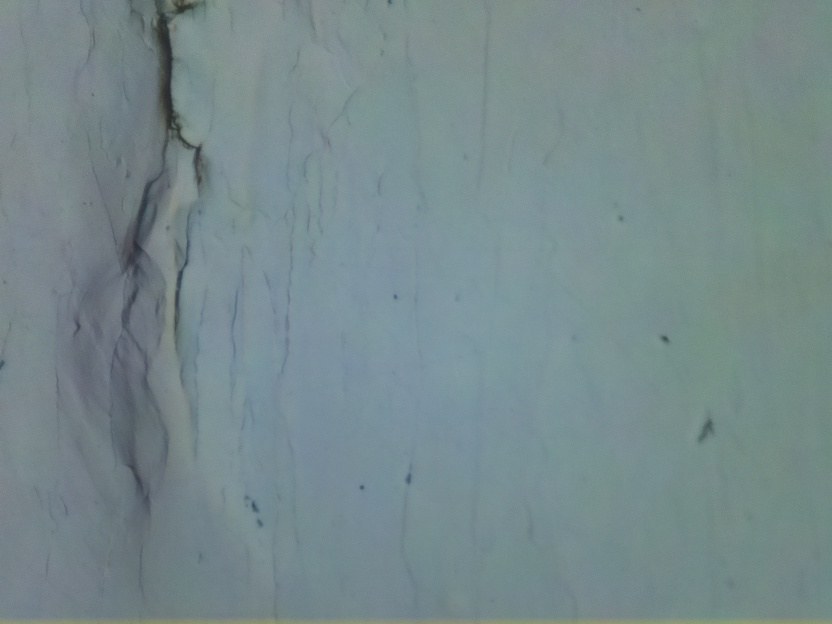crack: (155, 0, 200, 180), (171, 213, 192, 335)
